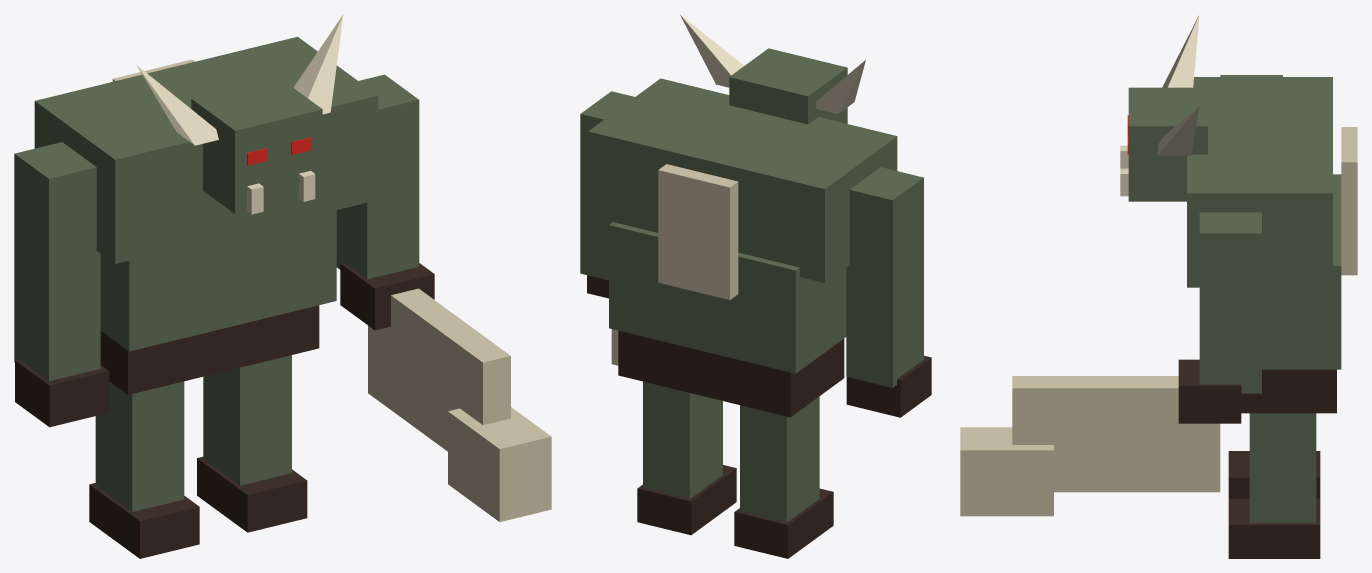
File: brute_placeholder.glb
The picture shows the model from 3 angles, left to right: view 1: azimuth 30°, elevation 25°; view 2: azimuth 150°, elevation 25°; view 3: azimuth 270°, elevation 25°; orthographic projection. The views are drawn at different scales.
Visible parts, largest first — view 1: brute_placeholder; view 2: brute_placeholder; view 3: brute_placeholder.
Boxes of the visible parts, x1=… form: brute_placeholder: x1=14, y1=14, x2=551, y2=558; brute_placeholder: x1=580, y1=14, x2=931, y2=558; brute_placeholder: x1=960, y1=14, x2=1357, y2=558.
Bounding box in the file's own units: 1.84 × 2.45 × 1.91.
Materials: 1 (1 with a texture image).
